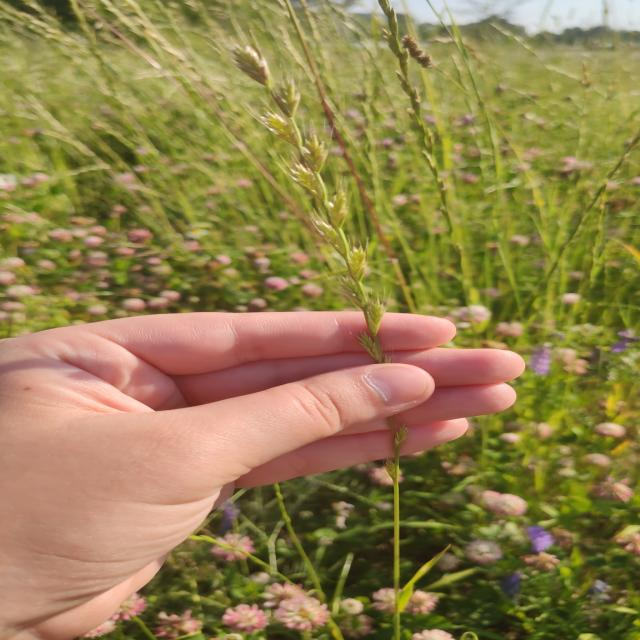Lolium: (5, 3, 633, 637), (242, 42, 425, 584), (394, 33, 438, 72)
